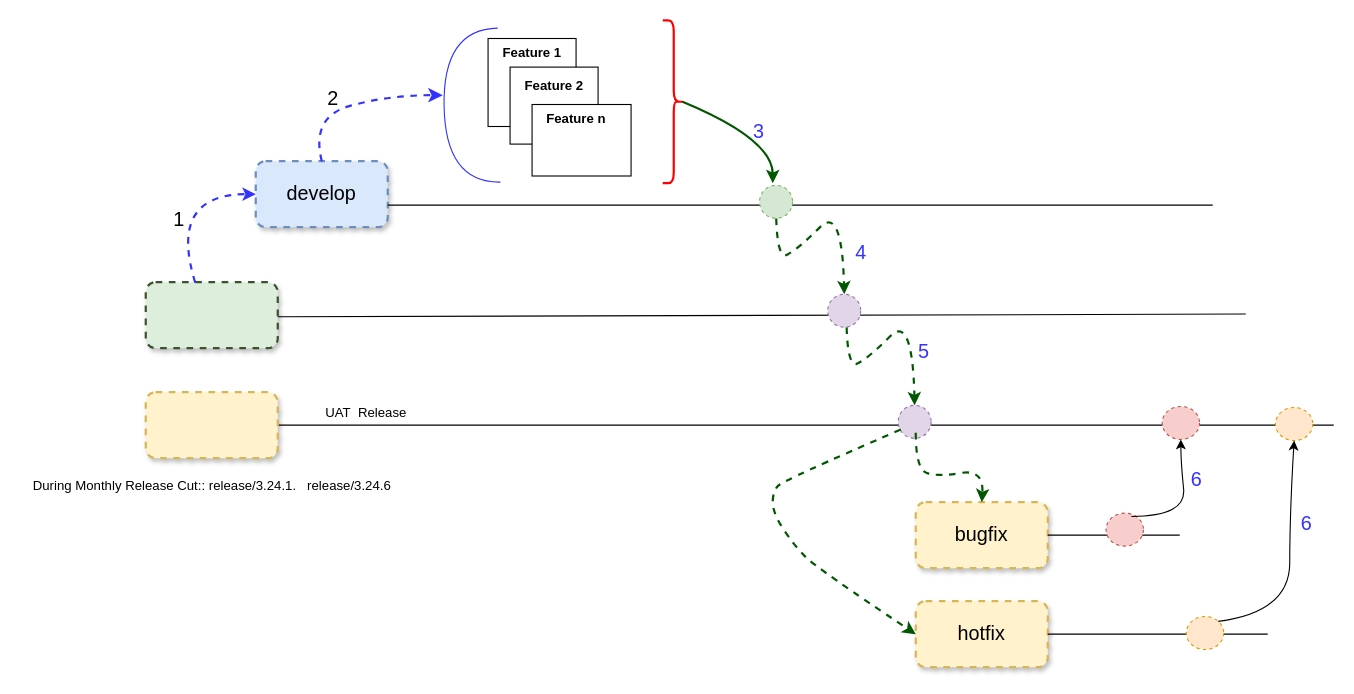
Some shapes in this 1354 by 694 pixel diagram are drawn without their labels. The shapes that lost their labels are listed below. From the top down, each one's centre as x and y in pixels, then its label:
At [212,316]: "master".
At [212,426]: "release".
